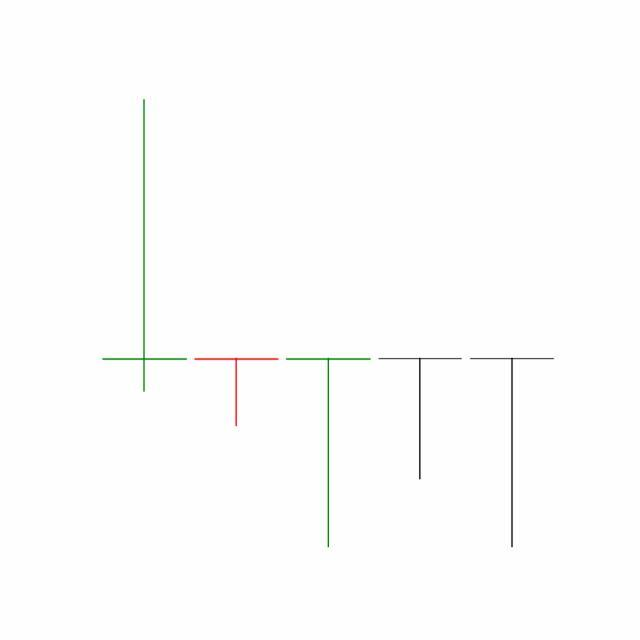Dragonfly Doji: (466, 356, 559, 551)
